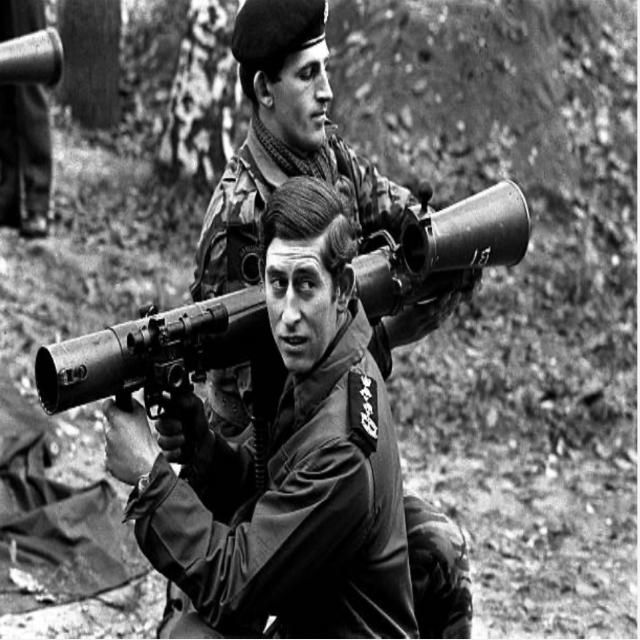bazooka: (23, 166, 547, 442)
